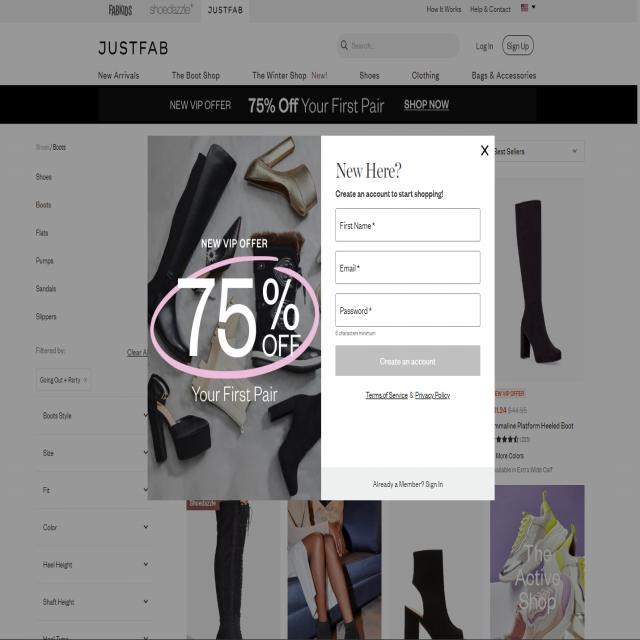sneaking: (138, 121, 505, 504)
